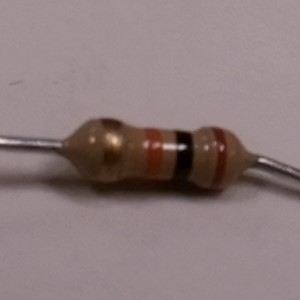black_band: (169, 127, 197, 186)
gold_band: (96, 113, 128, 190)
orange_band: (140, 124, 165, 186)
red_band: (206, 124, 230, 193)
